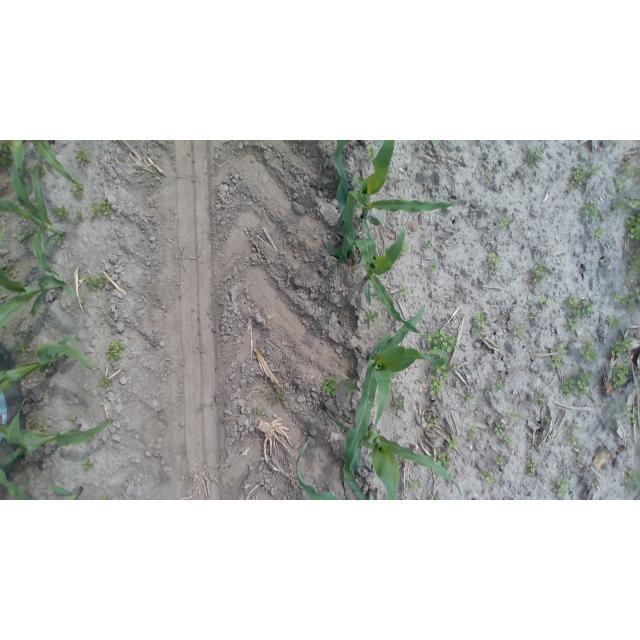Maize: (344, 302, 448, 476), (1, 140, 84, 304), (339, 141, 465, 246), (327, 407, 467, 500), (346, 222, 426, 342), (1, 399, 120, 469), (0, 229, 82, 329), (325, 140, 380, 264), (0, 334, 98, 394), (24, 140, 85, 186), (296, 438, 341, 500), (0, 472, 84, 500)
Weeds: (564, 294, 596, 330), (567, 163, 603, 191), (559, 370, 593, 398), (425, 329, 458, 355), (612, 287, 640, 311), (608, 335, 634, 359), (106, 338, 128, 363), (609, 194, 640, 211), (610, 363, 630, 388), (319, 375, 339, 398), (90, 199, 113, 219), (625, 212, 640, 242), (622, 402, 640, 425), (579, 339, 597, 362), (434, 448, 454, 468), (85, 273, 107, 291), (472, 310, 488, 334), (581, 200, 599, 221), (554, 476, 570, 499), (624, 468, 640, 490), (627, 248, 640, 275), (0, 141, 14, 166), (620, 162, 640, 179), (51, 204, 71, 221), (532, 262, 548, 283), (75, 148, 93, 166), (526, 147, 543, 165), (429, 377, 445, 395), (490, 376, 506, 393), (486, 252, 503, 268), (71, 181, 85, 200), (426, 412, 443, 427), (548, 356, 565, 371), (266, 391, 283, 406), (567, 429, 580, 448), (430, 364, 449, 377), (365, 308, 380, 324), (524, 460, 538, 477), (589, 225, 605, 239), (482, 471, 497, 485), (612, 178, 626, 193), (18, 341, 32, 356), (406, 478, 422, 491), (99, 375, 113, 389), (31, 162, 45, 176), (605, 315, 619, 329), (445, 436, 459, 450), (394, 398, 407, 413), (500, 215, 513, 229), (466, 427, 479, 441), (17, 229, 31, 242), (81, 460, 96, 472), (366, 144, 378, 159), (461, 390, 475, 402), (400, 243, 411, 258), (73, 209, 84, 224), (250, 406, 263, 418), (345, 379, 356, 393), (34, 423, 51, 432), (514, 324, 526, 336), (533, 392, 546, 403), (493, 457, 505, 468), (493, 423, 505, 434), (501, 435, 513, 446), (508, 410, 521, 420), (539, 296, 552, 306), (398, 285, 410, 295), (609, 418, 619, 430), (556, 346, 569, 355), (429, 262, 439, 273), (23, 328, 32, 340), (347, 369, 357, 379), (451, 363, 461, 372), (56, 237, 65, 247), (98, 494, 115, 499), (300, 239, 309, 248), (518, 220, 527, 229), (69, 415, 78, 423), (424, 238, 433, 246), (545, 414, 552, 423), (610, 404, 617, 413), (528, 313, 536, 320), (429, 495, 440, 500), (635, 450, 640, 459)
